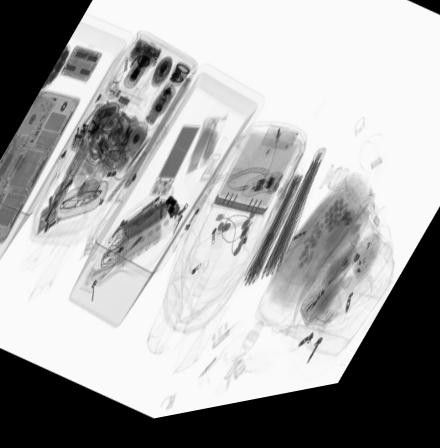Powerbank: (146, 132, 200, 204)
